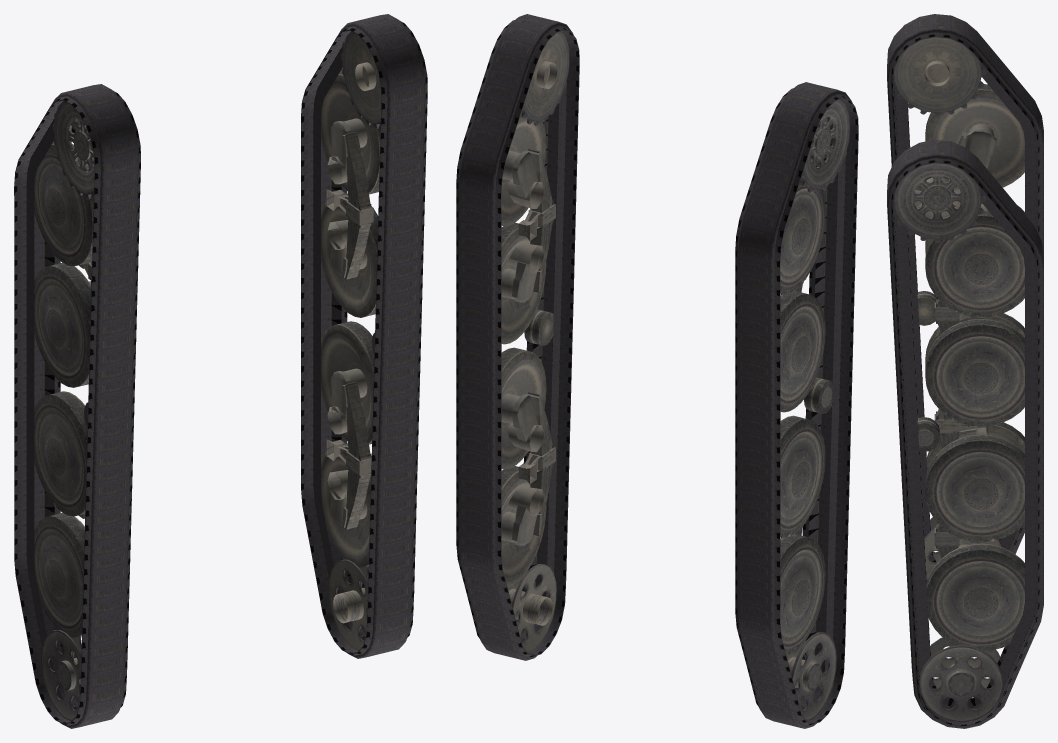
File: Chassis.glb
The picture shows the model from 3 angles, left to right: view 1: azimuth 30°, elevation 25°; view 2: azimuth 150°, elevation 25°; view 3: azimuth 270°, elevation 25°; orthographic projection. The views are drawn at different scales.
Parts seen in each view (by area): view 1: set_0_group_0, set_1_group_0, set_3_group_0, set_2_group_0; view 2: set_0_group_0, set_1_group_0, set_3_group_0, set_2_group_0; view 3: set_3_group_0, set_1_group_0, set_2_group_0, set_0_group_0.
Boxes of the visible parts, box(x1,y1,x2,y2) form: set_0_group_0: box(14, 84, 140, 728); set_1_group_0: box(301, 14, 427, 658); set_3_group_0: box(321, 31, 381, 650); set_2_group_0: box(34, 101, 94, 721); set_0_group_0: box(735, 82, 858, 728); set_1_group_0: box(456, 14, 579, 660); set_3_group_0: box(501, 31, 569, 652); set_2_group_0: box(780, 99, 849, 720); set_3_group_0: box(893, 163, 1024, 722); set_1_group_0: box(887, 140, 1043, 728); set_2_group_0: box(893, 37, 1024, 579); set_0_group_0: box(887, 14, 1043, 582).
Size of the model in its own units: 2.54 by 4.67 by 1.15.
4 materials, 4 textured.
